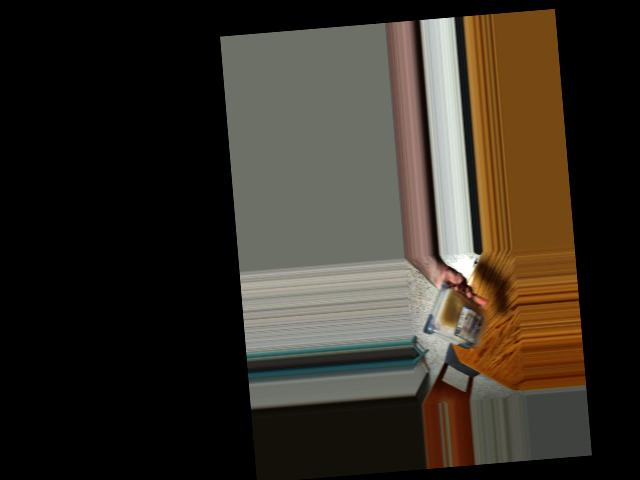cheese: (431, 285, 486, 349)
